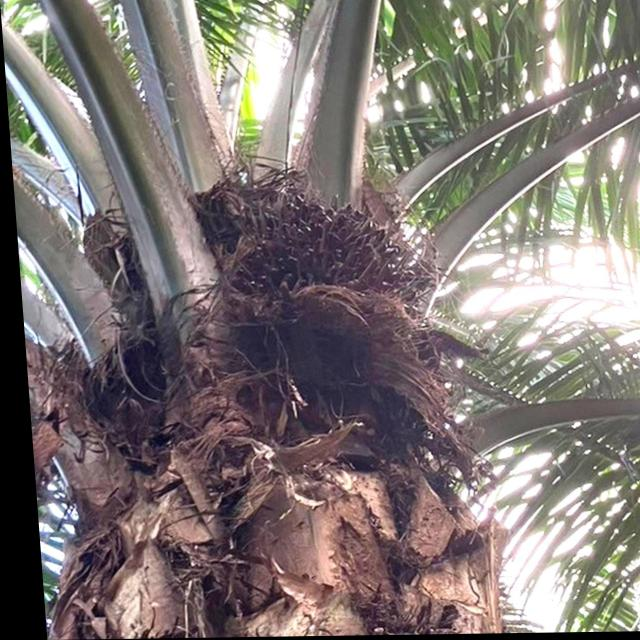ripe: (223, 184, 442, 403)
